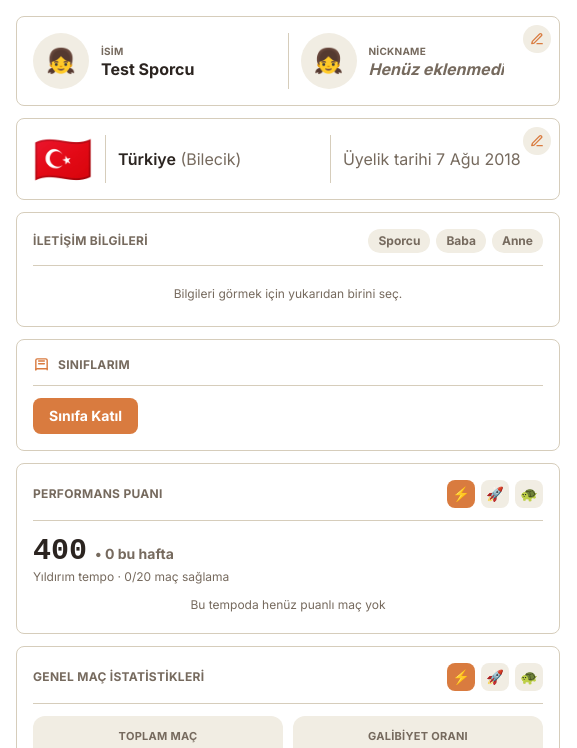
Scenario: Profil sayfası — İletişim Bilgileri kartı (madde 2026-09-07, GRUP C) › "Sporcu" seçilince sporcunun telefon/e-postası görünür
Expected: the text "İletişim Bilgileri" is shown, [33,233,148,249]
Click the button "Sporcu" at (399, 241), box [368,229,430,253]
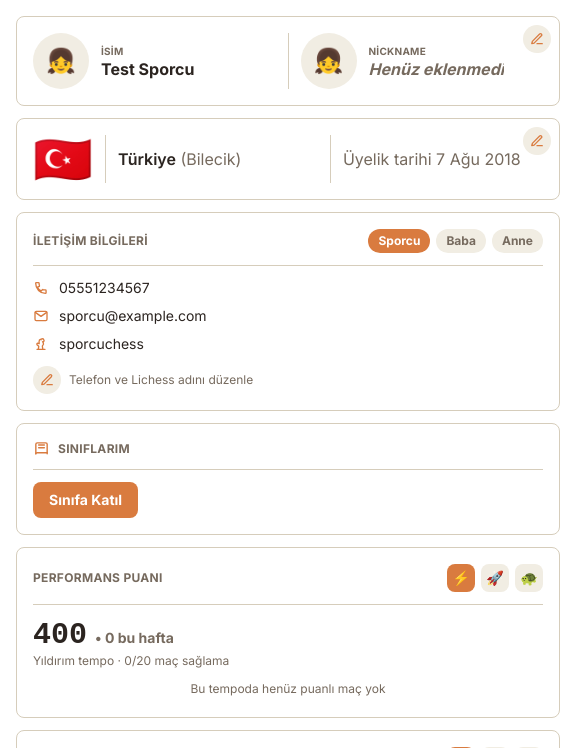
Expected: the text "05551234567" is shown, [59,278,150,298]
Expected: the text "sporcu@example.com" is shown, [59,306,207,326]
